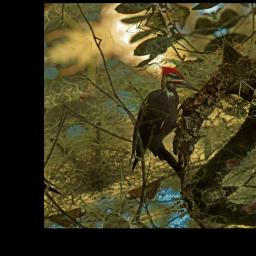Woodpecker: (95, 57, 222, 174)
